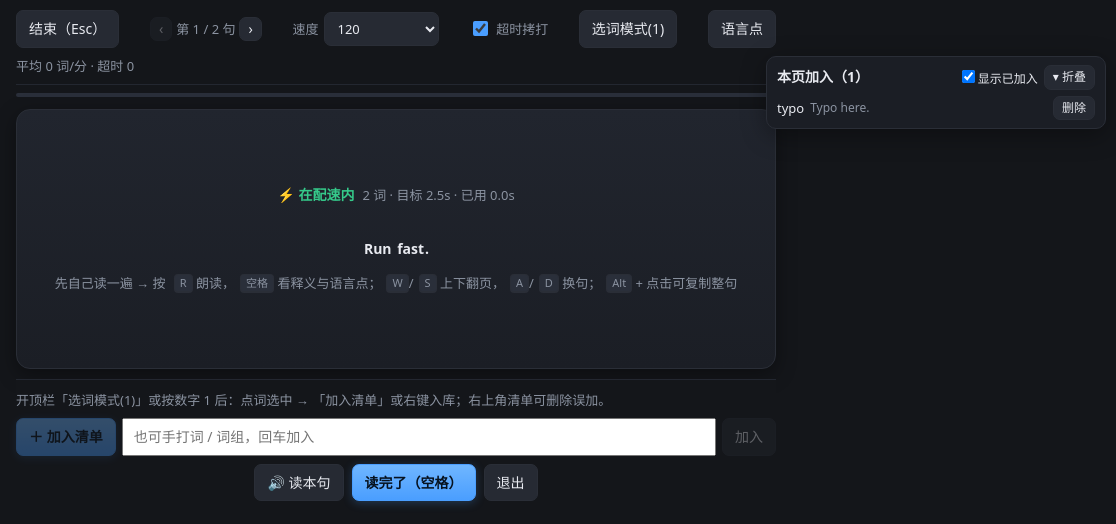
it: SpeedReadPanel：加词与移出 › 本页清单里的误加词：两步删除并同步移出生词本
Expected: the text "本页加入（1）" is shown, left=777, top=68, right=869, bottom=86
Click the button with aria-label "从生词本移出 typo" at (1074, 108), box left=1053, top=96, right=1095, bottom=120
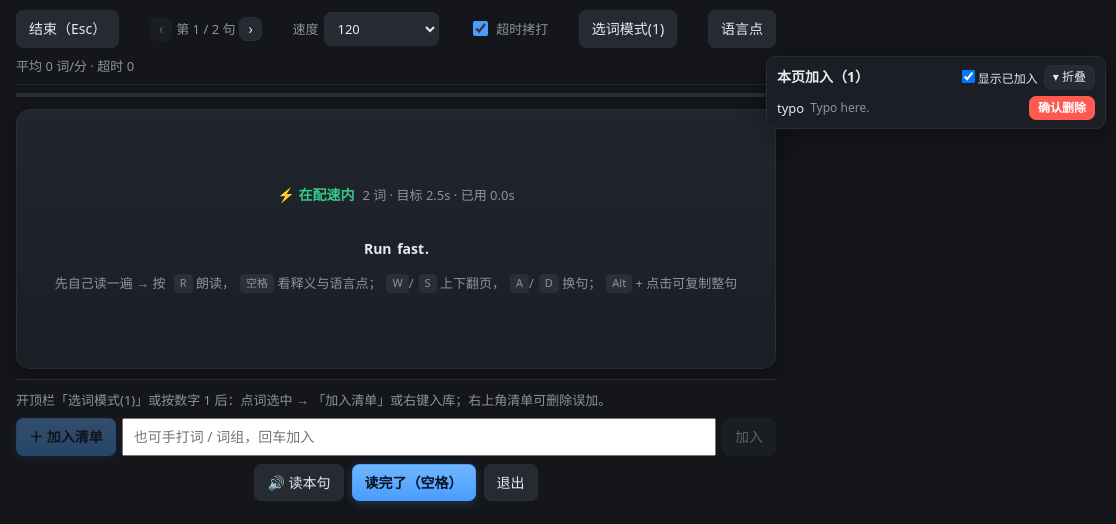
Click the button with aria-label "确认移出 typo" at (1062, 108), box left=1029, top=96, right=1095, bottom=120
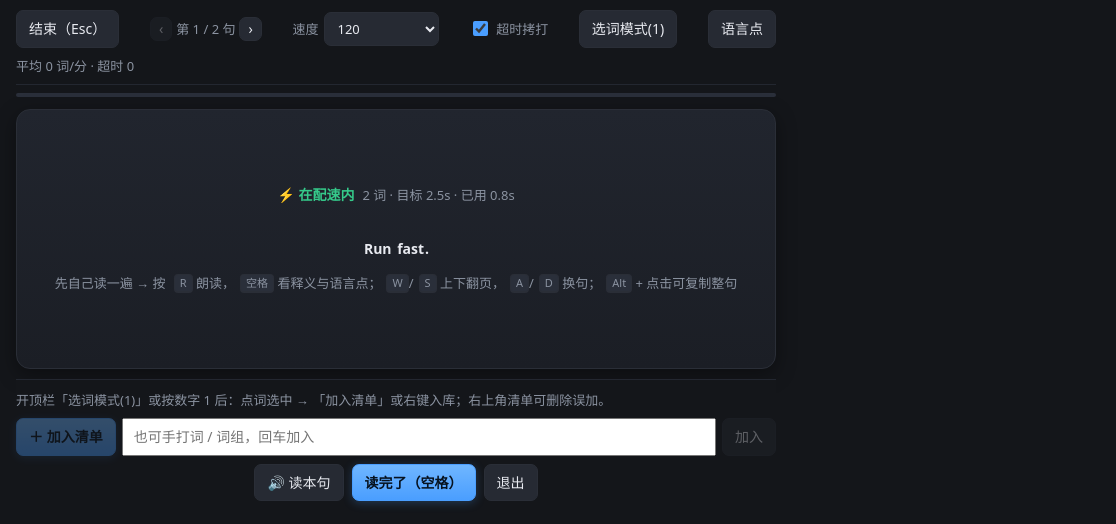
Now the text "本页加入（1）" is gone
